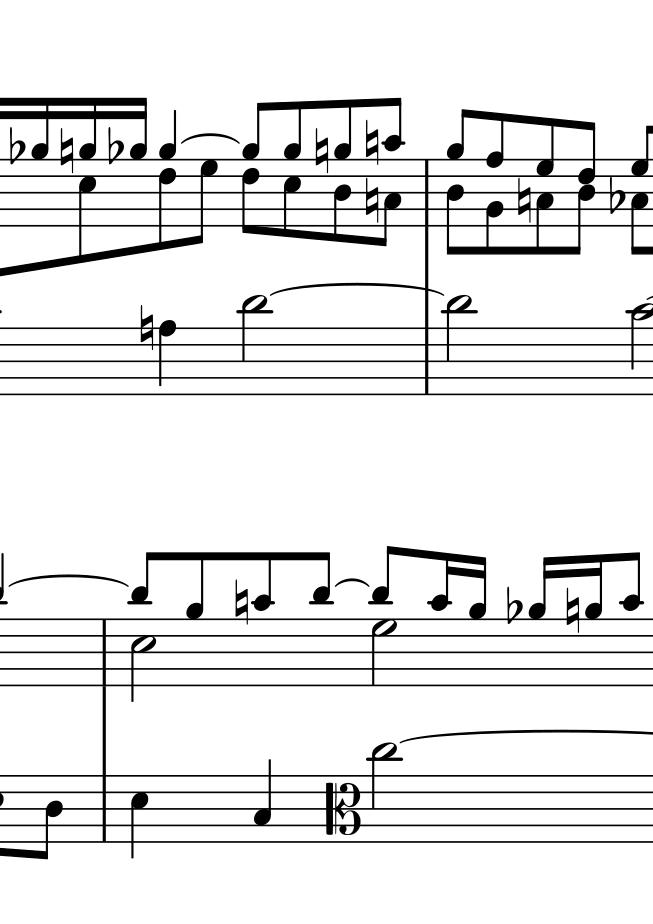16_10: (427, 549, 454, 688)
16_9: (529, 554, 553, 687), (468, 555, 488, 688), (583, 553, 603, 686), (30, 97, 50, 227), (128, 95, 148, 225)
2_11: (236, 292, 270, 394), (443, 293, 477, 395), (367, 740, 399, 845)
2_5: (129, 617, 156, 701)
2_7: (369, 619, 397, 686)
4_3: (252, 760, 274, 843)
4_5: (128, 773, 149, 862)
4_6: (158, 318, 177, 394)
8_10: (250, 550, 276, 689), (621, 552, 643, 688)
8_11: (311, 551, 333, 690)
8_2_8: (485, 109, 506, 257)
8_3_10: (379, 96, 406, 249)
8_3_7: (535, 115, 557, 256), (630, 124, 653, 256)
8_4: (36, 774, 64, 863)
8_4_6: (573, 119, 597, 257)
8_4_9: (445, 109, 471, 257), (332, 99, 353, 244)
8_5_9: (282, 101, 303, 240)
8_6: (158, 158, 177, 253)
8_6_9: (241, 102, 268, 236)
8_7: (190, 158, 219, 246)
8_9: (185, 551, 205, 688)
Cclef: (324, 773, 363, 845)
Flat: (608, 166, 626, 217), (504, 583, 523, 626), (106, 124, 125, 166), (8, 124, 22, 167)
Natural: (58, 126, 75, 177), (313, 125, 330, 176), (564, 585, 581, 636), (233, 575, 249, 628), (516, 176, 532, 227), (364, 118, 380, 167), (364, 173, 379, 225), (138, 304, 154, 352)
Single_barline: (96, 620, 113, 686), (96, 776, 112, 840), (420, 328, 435, 392), (420, 160, 433, 226)
Slur: (269, 282, 443, 297), (7, 574, 127, 589), (180, 132, 241, 144), (334, 576, 371, 588)
